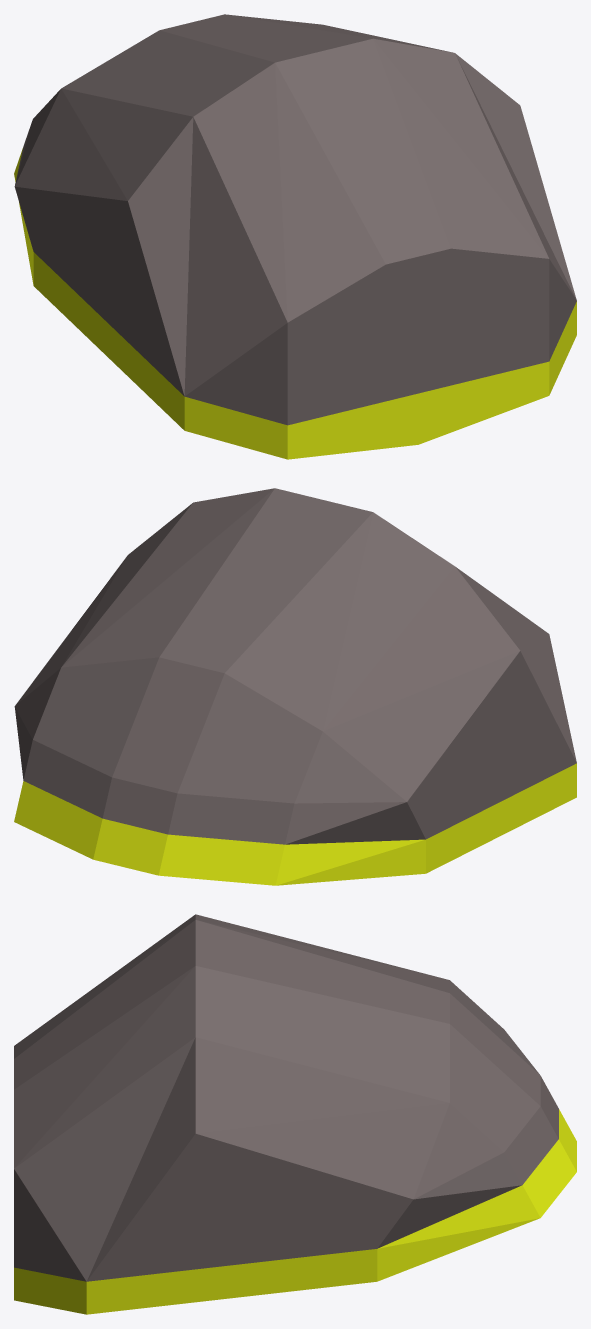
Rendered from npc_chat_stankers_1.obj.
3 views of the same model, one above another, from view 1: azimuth 30°, elevation 25°; view 2: azimuth 150°, elevation 25°; view 3: azimuth 270°, elevation 25° (orthographic). The views are drawn at different scales.
Size of the model in its own units: 0.75 by 0.5938 by 0.9688.
